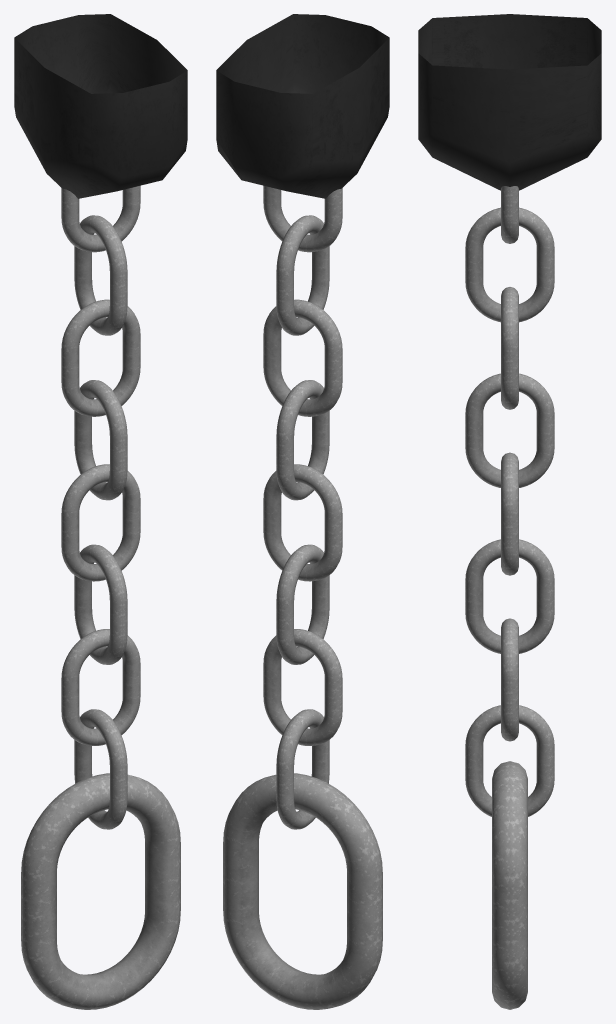
File: ChainJointwithMount.fbx
The picture shows the model from 3 angles, left to right: view 1: azimuth 30°, elevation 25°; view 2: azimuth 150°, elevation 25°; view 3: azimuth 270°, elevation 25°; orthographic projection.
Parts seen in each view (by area): view 1: Chain_low, ChainHold; view 2: Chain_low, ChainHold; view 3: Chain_low, ChainHold.
Boxes of the visible parts, <box> form: Chain_low: <box>21,185,180,1009</box>; ChainHold: <box>14,14,187,198</box>; Chain_low: <box>223,185,382,1009</box>; ChainHold: <box>216,14,389,198</box>; Chain_low: <box>465,186,554,1009</box>; ChainHold: <box>418,14,601,190</box>.
Bounding box in the file's own units: 47.07 × 277 × 47.88.
